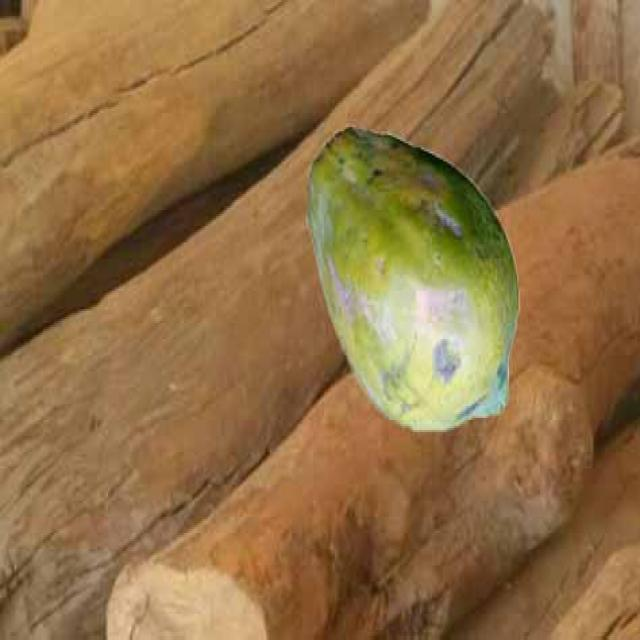Pepaya rippen: (301, 111, 520, 444)
